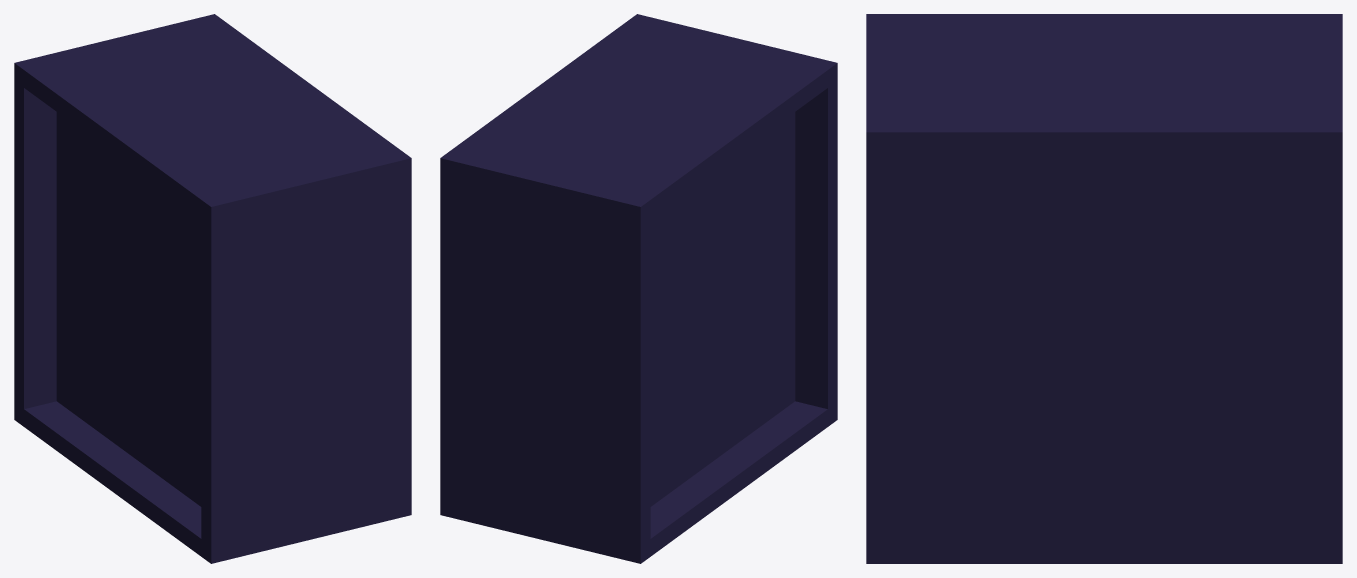
The model's file is SoportePanelPared.fbx.
3 views of the same model, side by side, from view 1: azimuth 30°, elevation 25°; view 2: azimuth 150°, elevation 25°; view 3: azimuth 270°, elevation 25° (orthographic). The views are drawn at different scales.
Parts seen in each view (by area): view 1: Cube; view 2: Cube; view 3: Cube.
Part boxes in pixels (bbox=[...]): Cube: bbox=[14, 14, 411, 563]; Cube: bbox=[440, 14, 837, 563]; Cube: bbox=[866, 14, 1342, 563].
Bounding box in the file's own units: 118 × 200 × 200.
